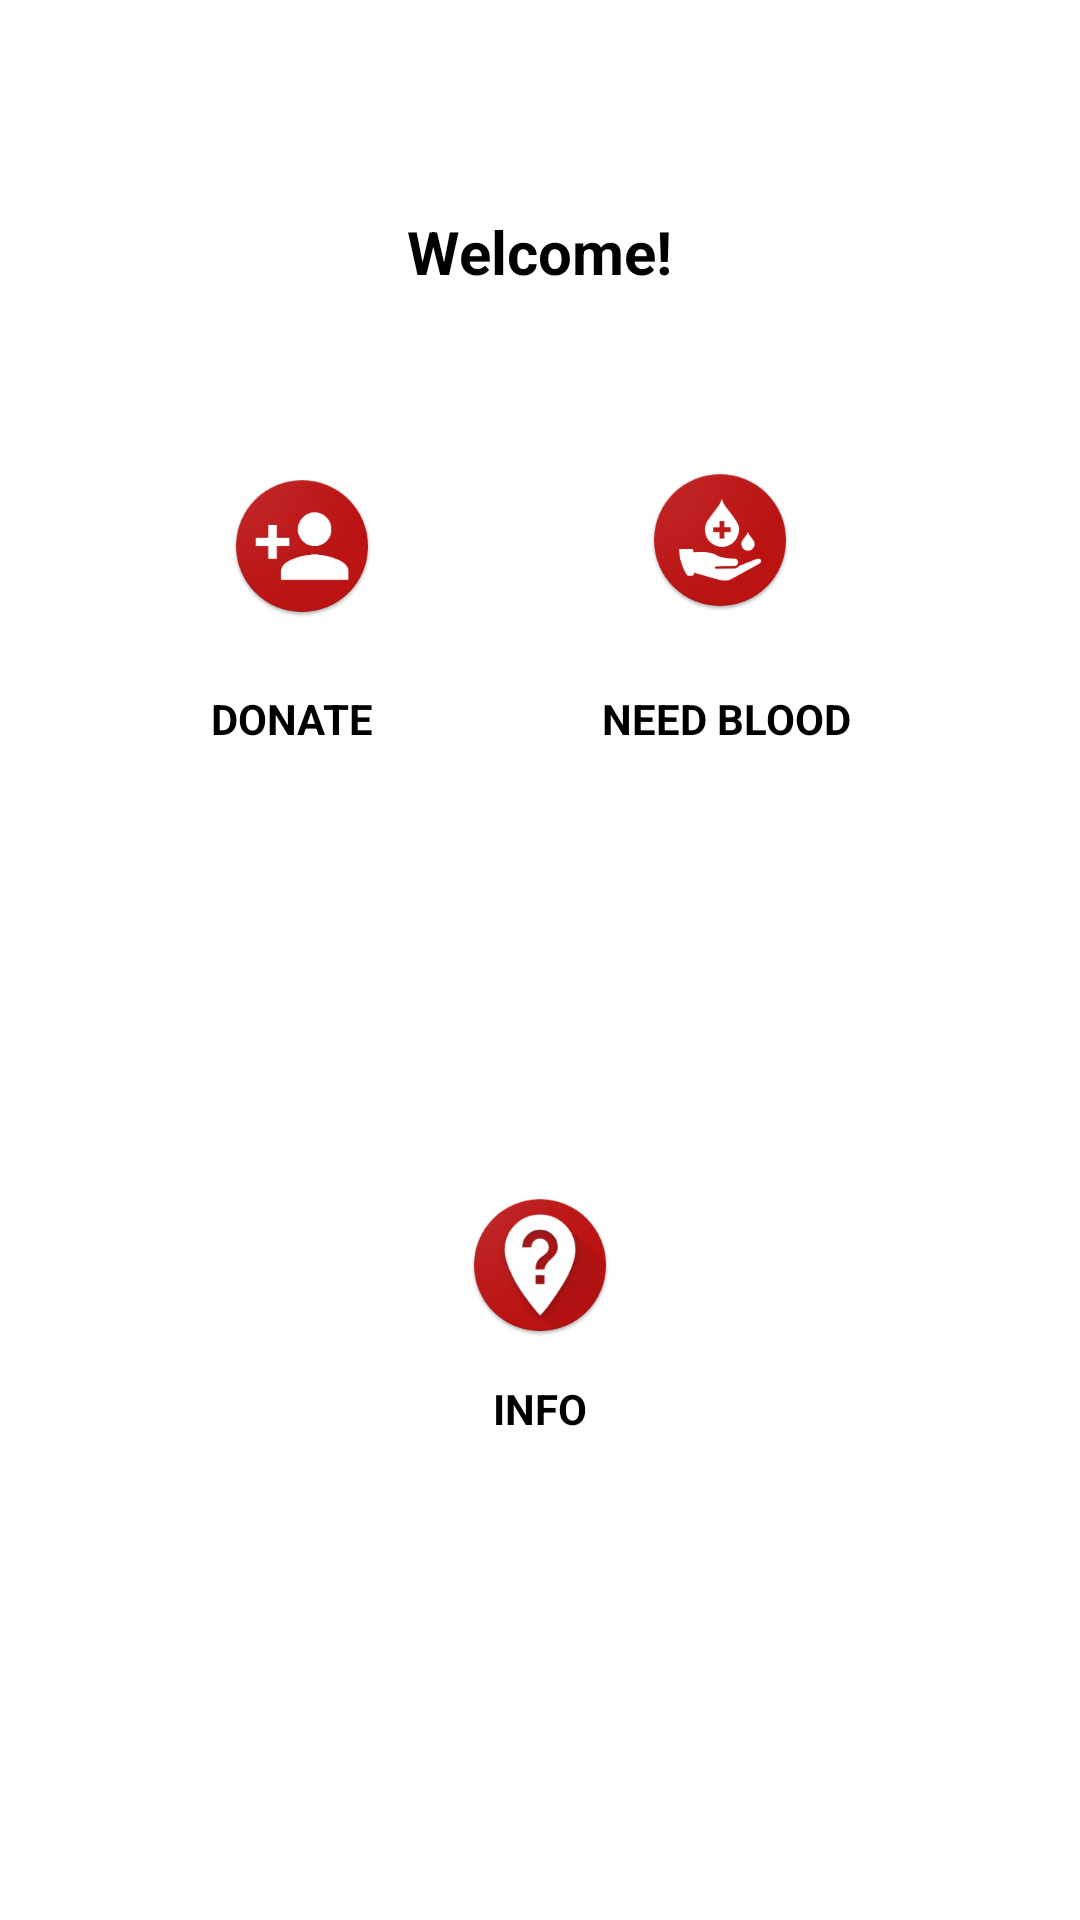

Screen size 1080px x 1920px. Icon name, then its center in pixels as [x,y]:
receive: [720,541]
